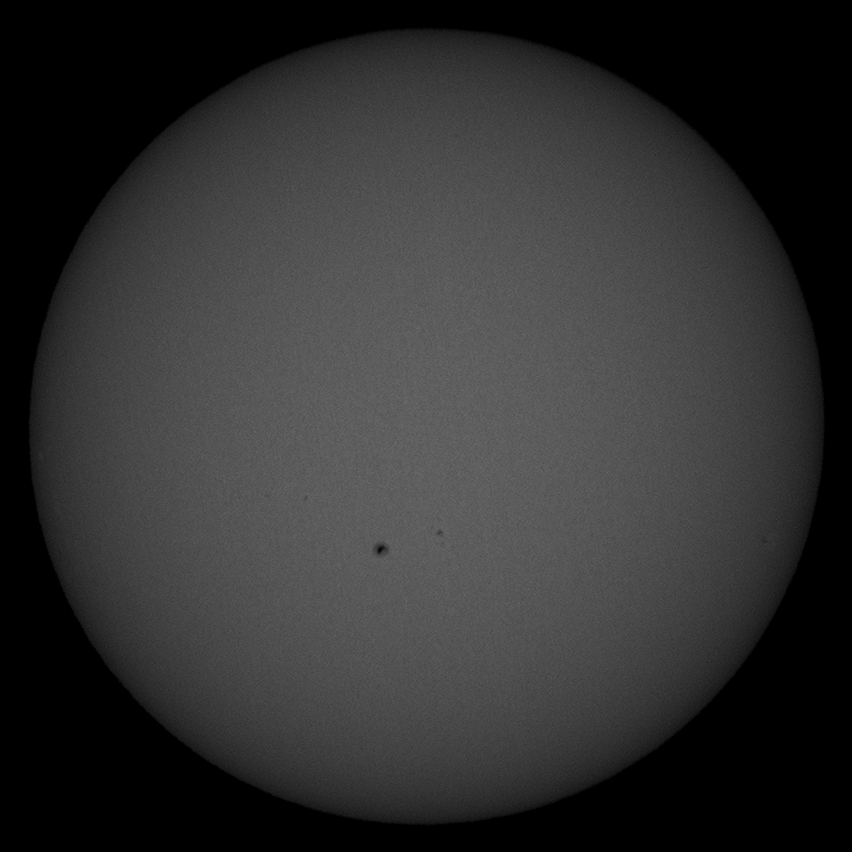sunspot: (366, 538, 393, 561), (429, 521, 451, 543)
